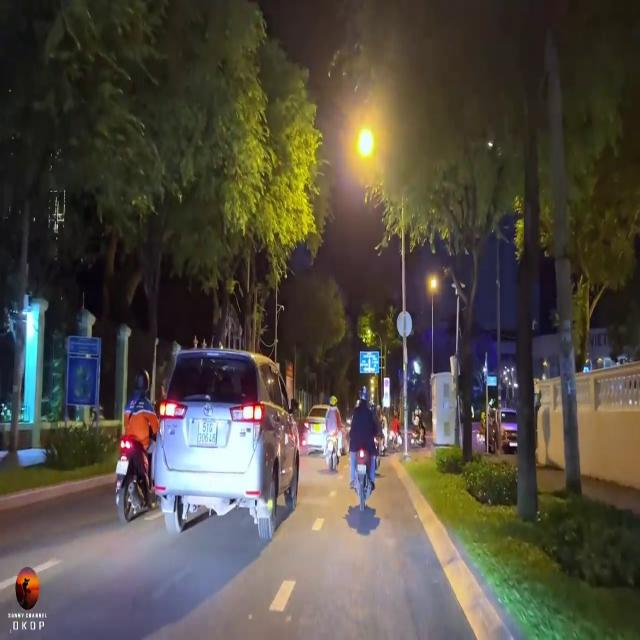bien_trang: (199, 417, 219, 444)
